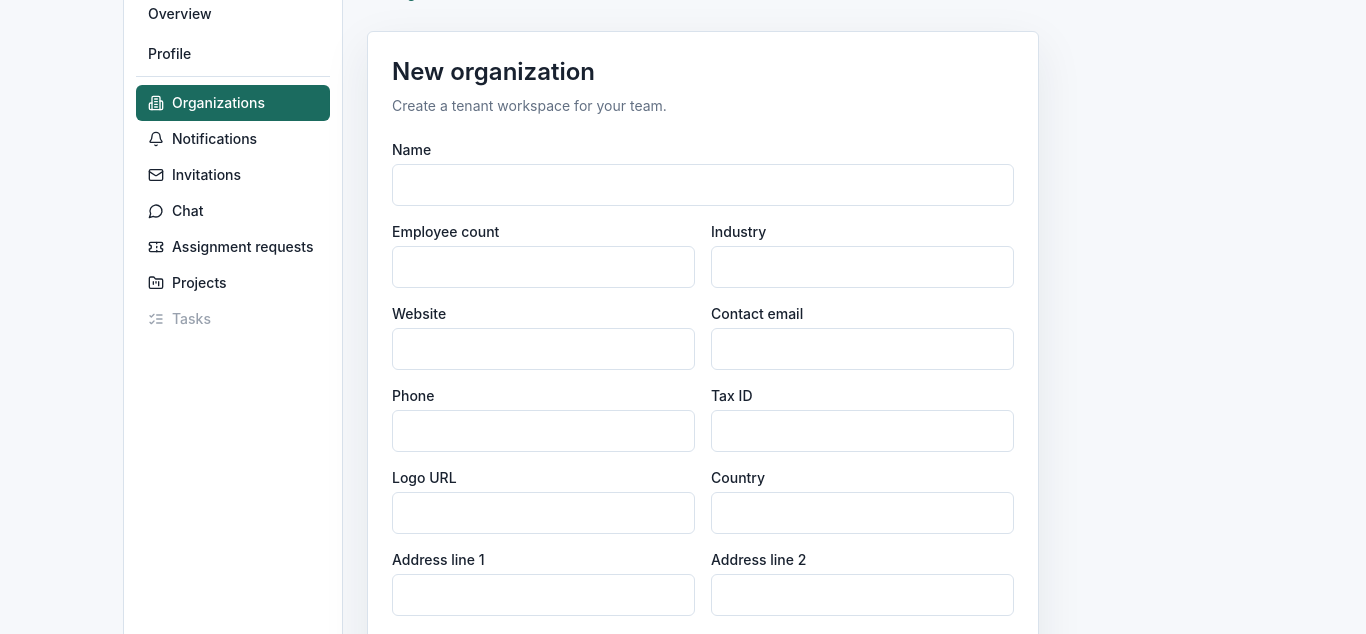
Test: SPEC-105 frontend organizations UI › creates an organization and navigates to its detail page
The image size is (1366, 634).
Type "Acme Ops" into the field labelled "Name" at (703,185), box 392,164 -> 1014,206
(page scrolled)
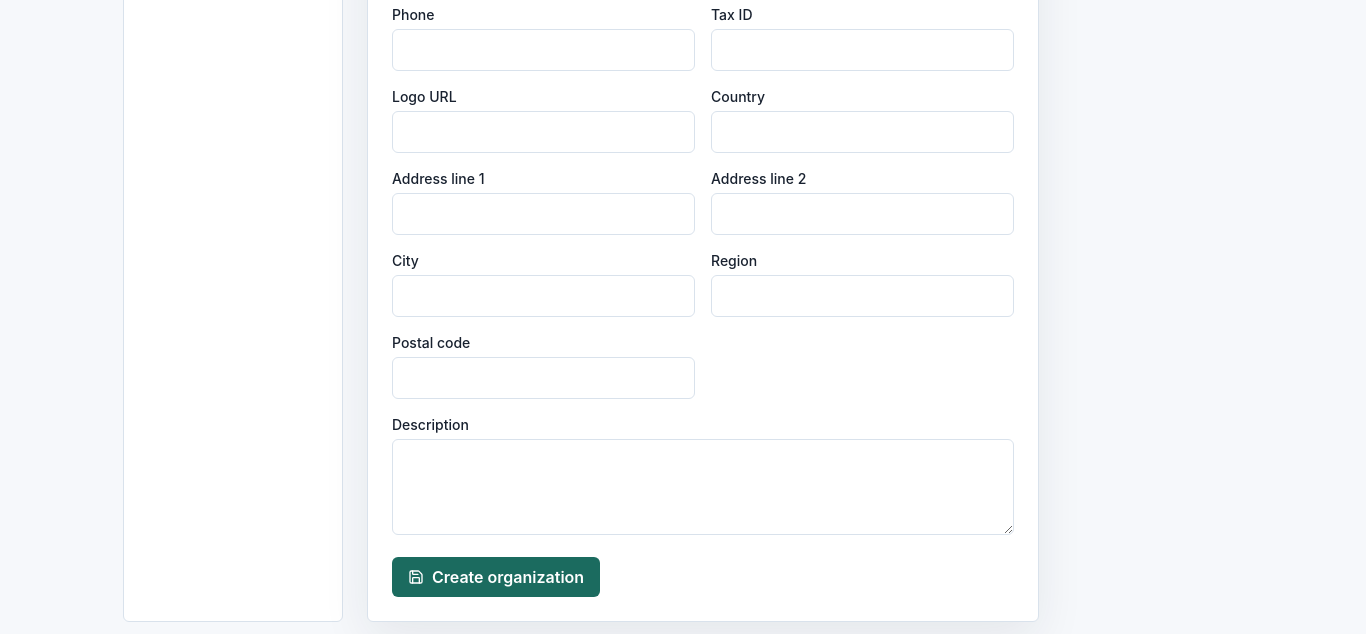
Click the button "Create organization" at (496,577), box 392,557 -> 600,597
(page scrolled)
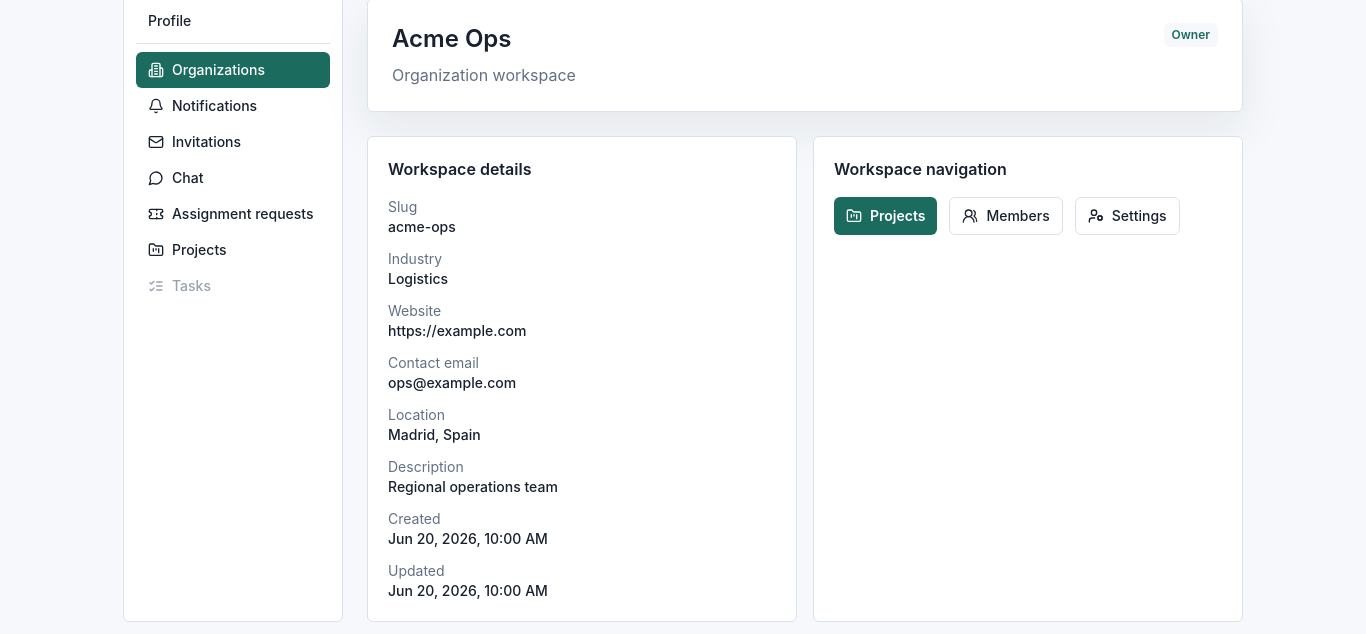
Result: the heading "Acme Ops" is shown at 392,24 -> 512,53
